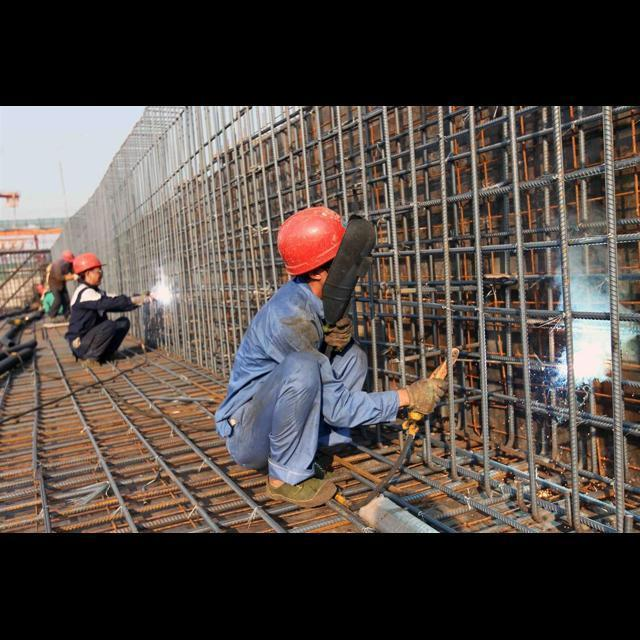helmet: (265, 194, 359, 288), (50, 234, 86, 280), (68, 247, 112, 281)
safety_vest: (204, 268, 404, 494), (63, 280, 138, 374)
